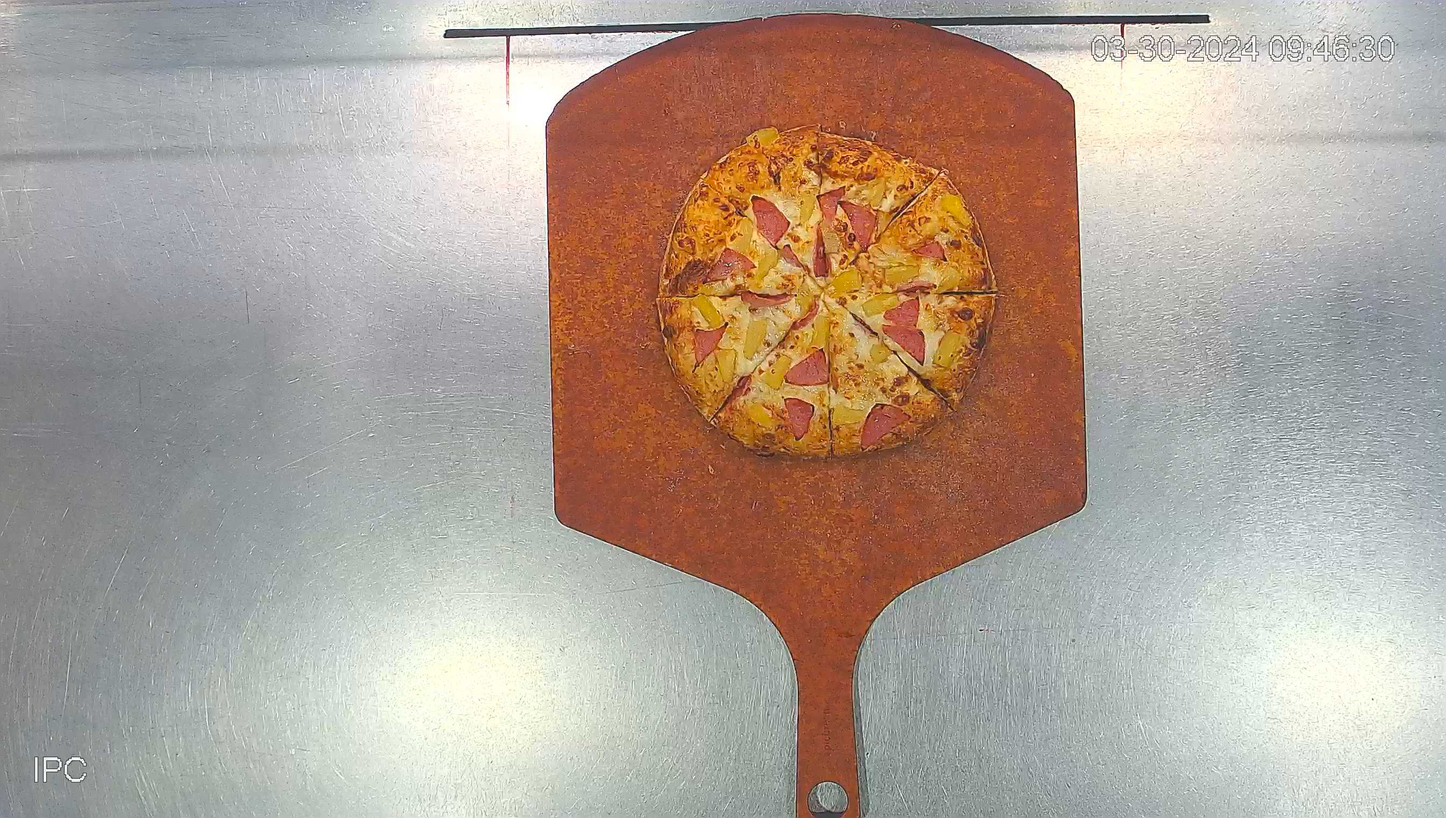manager_choice: (655, 122, 996, 462)
